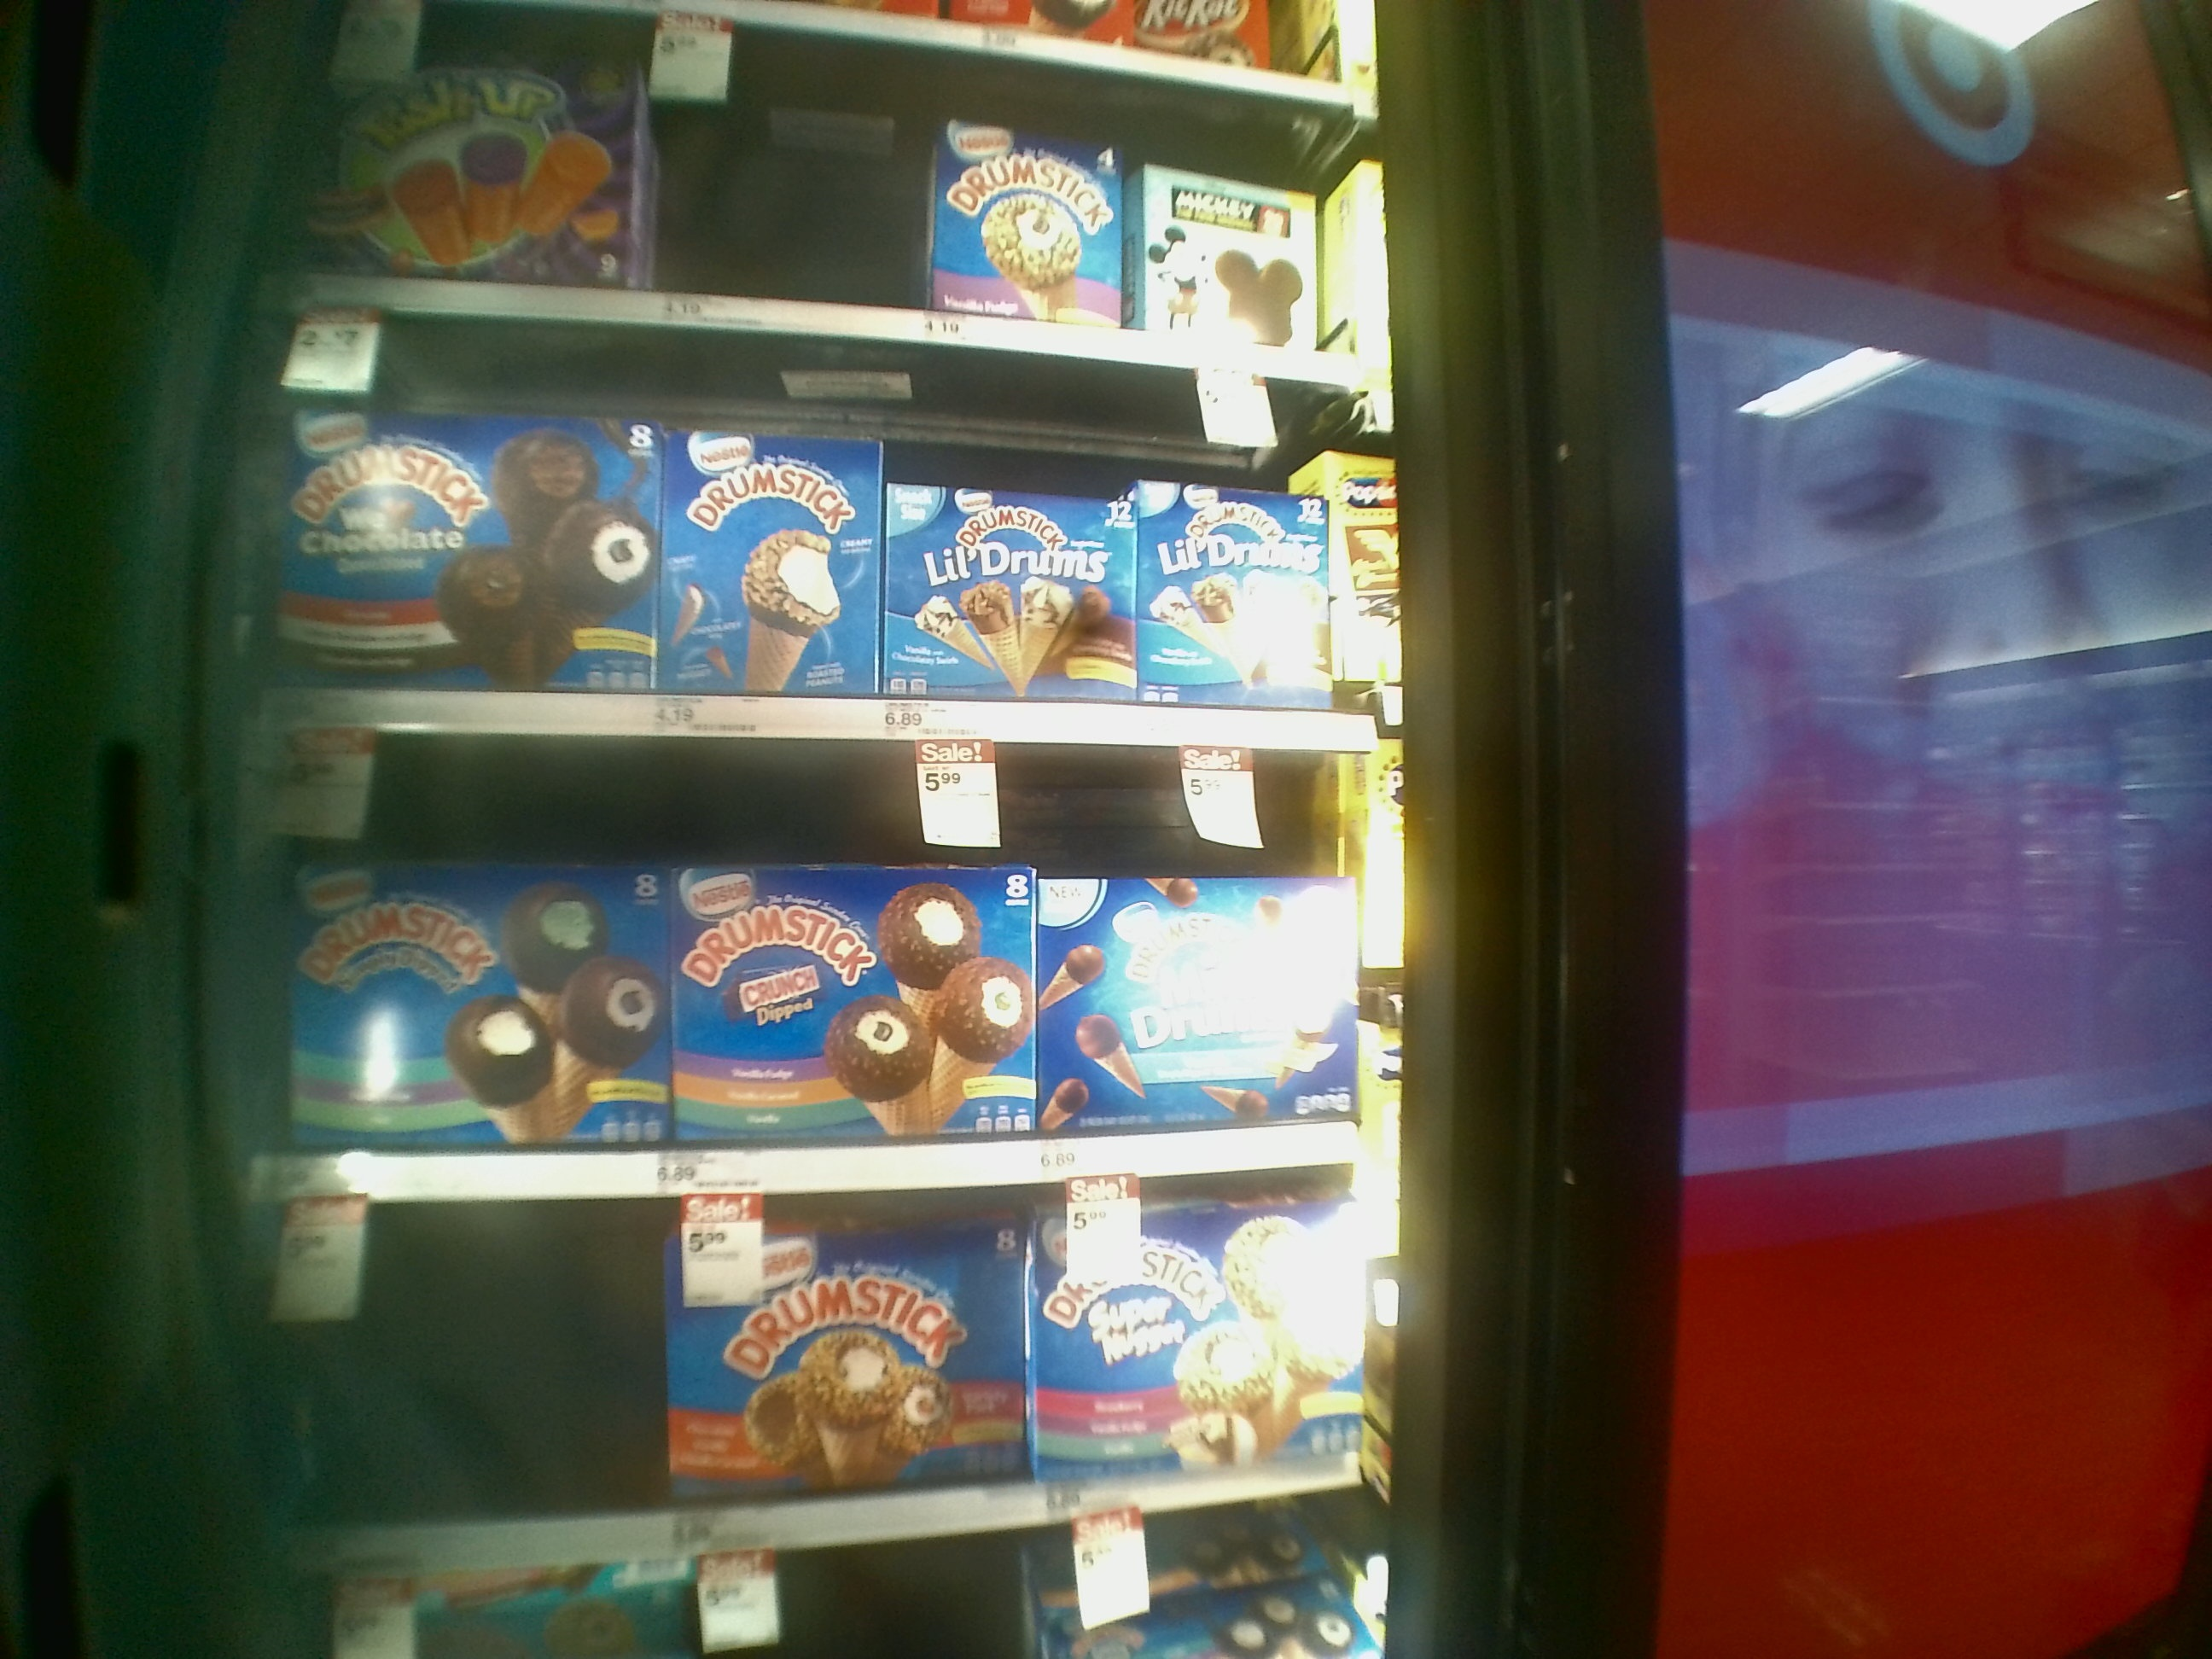shelf: (296, 744, 1385, 1190), (296, 319, 1383, 744), (298, 1168, 1407, 1560)
